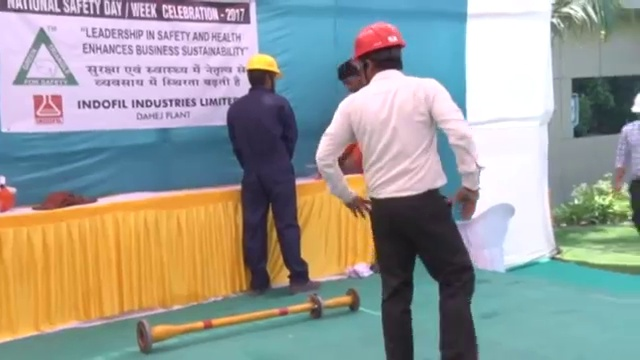helmet: (352, 19, 406, 58), (245, 51, 282, 79), (631, 92, 640, 114)
helmet_off: (336, 60, 368, 92)
helmet_on: (351, 16, 407, 88), (243, 49, 284, 96), (628, 89, 640, 126)
person: (315, 17, 487, 360), (226, 49, 320, 294), (613, 88, 640, 237)
